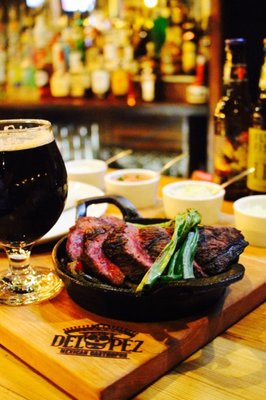pizza: (162, 180, 225, 225)
sushi: (52, 210, 249, 321), (162, 180, 225, 225), (104, 168, 161, 208), (233, 194, 266, 248)
